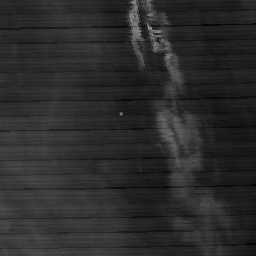Target: (117, 110, 124, 116)
